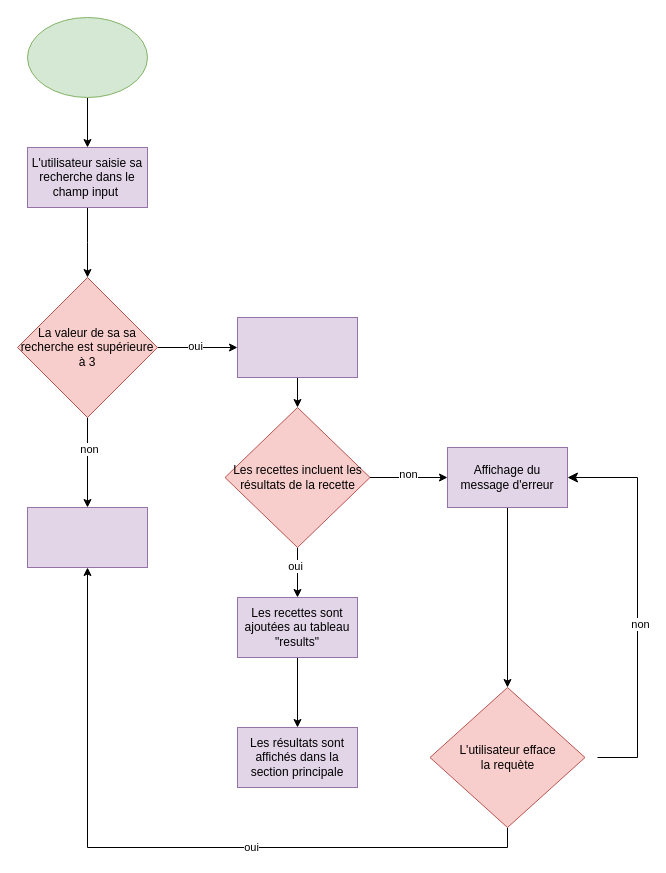
The diagram is 666 pixels wide and 873 high, and some of its shapes have lost their labels. Each missing label, with the centre of its shape:
"Affichage de toutes les recettes" belongs at point 87,537.
"DEBUT" belongs at point 87,57.
"L'algorithme itère sur le nombre total de recettes" belongs at point 297,347.
